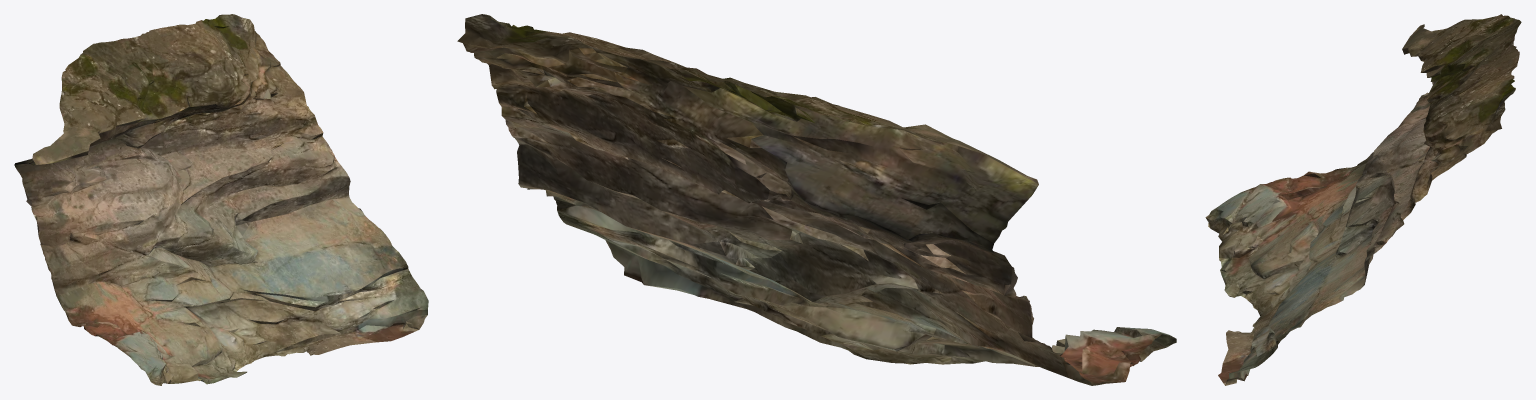
Rendered from rock_face_a.glb.
3 renders of one model, left to right at view 1: azimuth 30°, elevation 25°; view 2: azimuth 150°, elevation 25°; view 3: azimuth 270°, elevation 25°, orthographic. The views are drawn at different scales.
Visible parts, largest first — view 1: rock_face_a; view 2: rock_face_a; view 3: rock_face_a.
Part boxes in pixels (box(x1,y1,x2,y2)): rock_face_a: box(14, 14, 428, 385); rock_face_a: box(457, 14, 1176, 385); rock_face_a: box(1205, 14, 1521, 385).
Bounding box in the file's own units: 4.95 × 3.57 × 3.83.
1 material, 1 textured.
